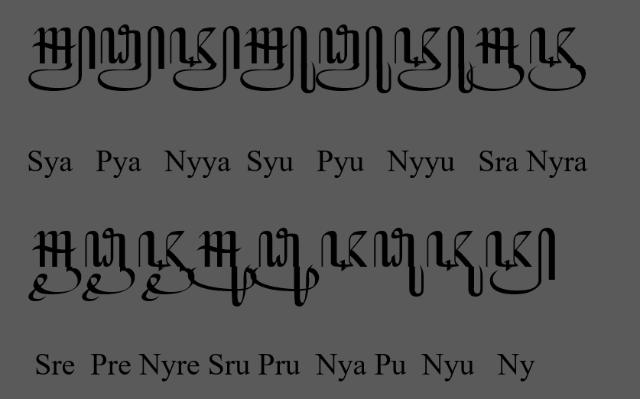-Ny: (485, 227, 557, 296)
Ny1: (320, 231, 368, 273)
Nyr: (528, 26, 586, 92)
Nyre: (138, 230, 195, 302)
Nyu1: (426, 230, 484, 298)
Nyy: (170, 26, 240, 92)
Nyyu: (394, 26, 474, 94)
Pre: (82, 227, 136, 303)
Pru: (250, 227, 320, 307)
Pu: (373, 228, 425, 298)
Py: (97, 24, 165, 92)
Pyu: (316, 24, 392, 94)
Sr: (466, 26, 524, 92)
Sre: (28, 230, 82, 302)
Sru: (188, 231, 256, 307)
Sy: (28, 26, 96, 92)
Syu: (240, 26, 316, 94)
